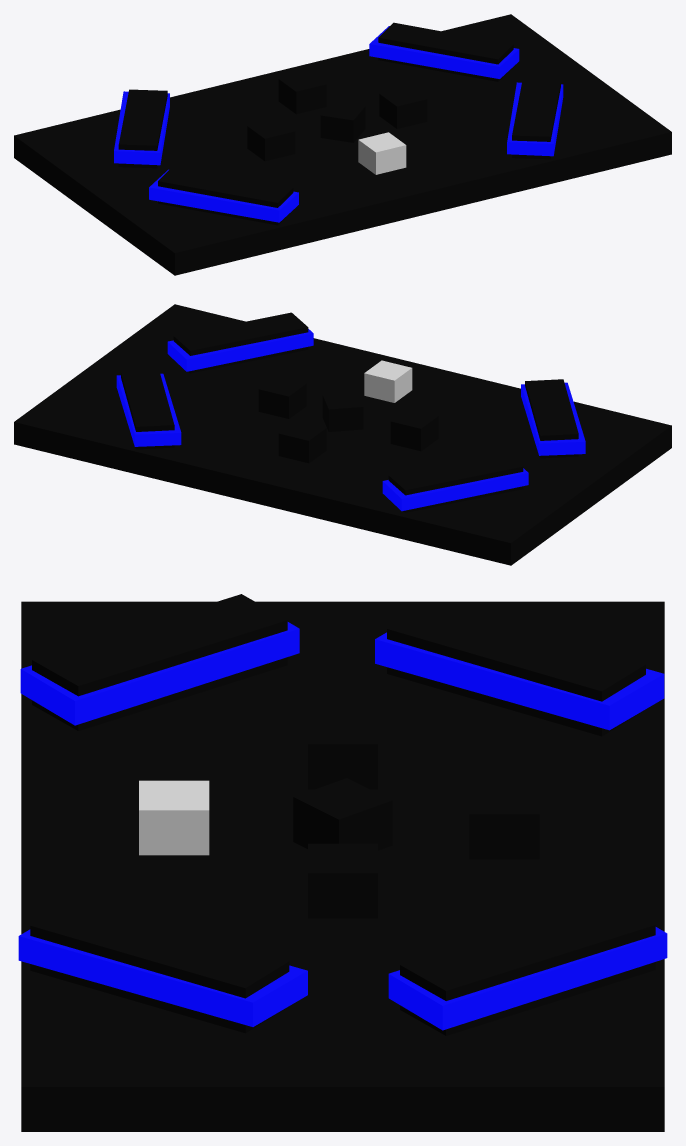
Rendered from level1.gltf.
3 renders of one model, top to bottom at view 1: azimuth 30°, elevation 25°; view 2: azimuth 150°, elevation 25°; view 3: azimuth 270°, elevation 25°, orthographic. The views are drawn at different scales.
Parts seen in each view (by area): view 1: Cube, Cube.007, Cube.012, Cube.009, Cube.006, Cube.010, Cube.013, Cube.005, Cube.002, Cube.003, Cube.004, Cube.001 (+2 smaller); view 2: Cube, Cube.009, Cube.006, Cube.012, Cube.007, Cube.011, Cube.008, Cube.005, Cube.002, Cube.004, Cube.003, Cube.001 (+2 smaller); view 3: Cube, Cube.007, Cube.012, Cube.006, Cube.009, Cube.008, Cube.011, Cube.013, Cube.010, Cube.001, Cube.003, Cube.005 (+2 smaller).
Boxes of the visible parts, x1=… form: Cube: x1=14, y1=14, x2=671, y2=275; Cube.007: x1=378, y1=22, x2=513, y2=81; Cube.012: x1=158, y1=166, x2=293, y2=225; Cube.009: x1=118, y1=89, x2=167, y2=168; Cube.006: x1=512, y1=80, x2=560, y2=159; Cube.010: x1=369, y1=26, x2=519, y2=78; Cube.013: x1=149, y1=169, x2=298, y2=222; Cube.005: x1=358, y1=132, x2=406, y2=174; Cube.002: x1=379, y1=86, x2=427, y2=128; Cube.003: x1=278, y1=71, x2=326, y2=114; Cube.004: x1=247, y1=118, x2=295, y2=161; Cube.001: x1=320, y1=101, x2=365, y2=142; Cube: x1=14, y1=304, x2=671, y2=565; Cube.009: x1=388, y1=452, x2=523, y2=512; Cube.006: x1=173, y1=312, x2=308, y2=373; Cube.012: x1=525, y1=379, x2=578, y2=458; Cube.007: x1=121, y1=370, x2=174, y2=449; Cube.011: x1=382, y1=468, x2=528, y2=511; Cube.008: x1=167, y1=329, x2=313, y2=371; Cube.005: x1=364, y1=360, x2=412, y2=402; Cube.002: x1=258, y1=376, x2=306, y2=418; Cube.004: x1=390, y1=408, x2=438, y2=451; Cube.003: x1=278, y1=420, x2=326, y2=463; Cube.001: x1=322, y1=392, x2=363, y2=431; Cube: x1=21, y1=601, x2=664, y2=1131; Cube.007: x1=400, y1=899, x2=655, y2=1035; Cube.012: x1=32, y1=594, x2=287, y2=730; Cube.006: x1=30, y1=899, x2=289, y2=1033; Cube.009: x1=387, y1=602, x2=645, y2=736; Cube.008: x1=18, y1=929, x2=307, y2=1026; Cube.011: x1=375, y1=632, x2=664, y2=730; Cube.013: x1=20, y1=622, x2=299, y2=725; Cube.010: x1=388, y1=927, x2=667, y2=1030; Cube.001: x1=293, y1=778, x2=392, y2=850; Cube.003: x1=469, y1=784, x2=539, y2=859; Cube.005: x1=139, y1=780, x2=209, y2=855.
Bounding box in the file's own units: 46.25 × 4.05 × 26.14.
